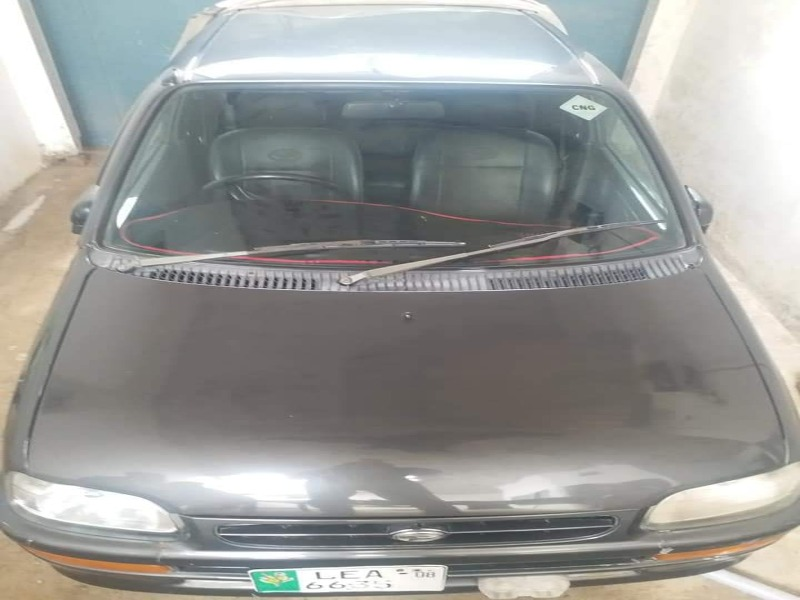License Plate: (246, 561, 453, 598)
